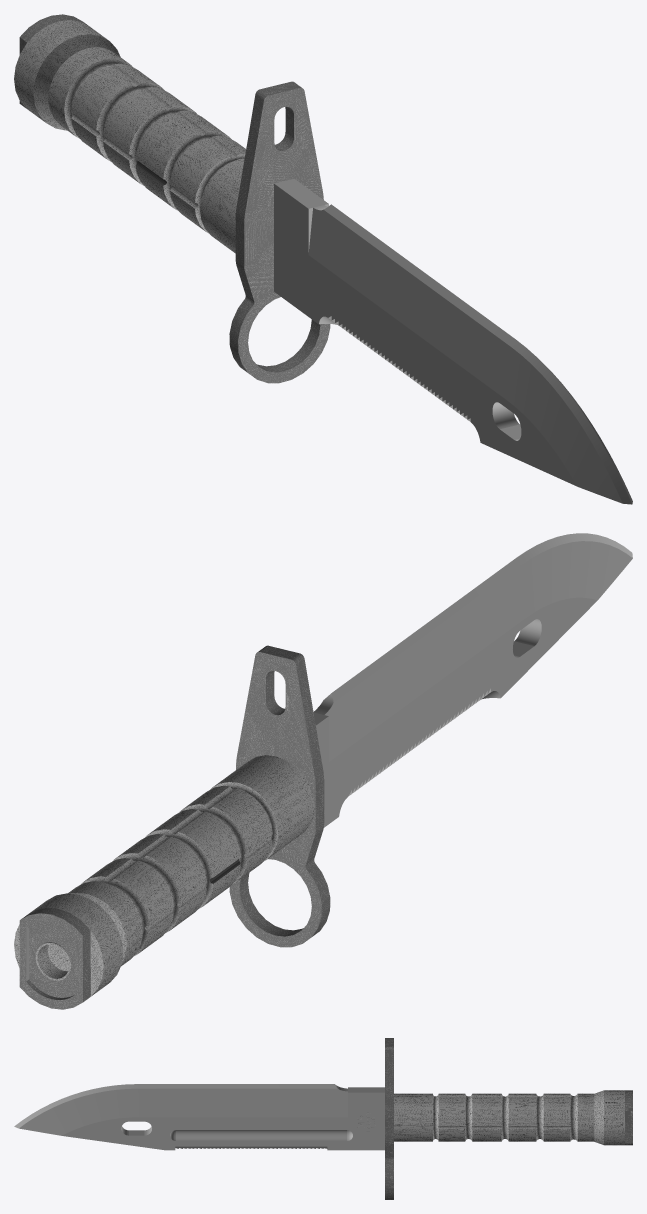
Rendered from model_scale.obj.
3 renders of one model, top to bottom at view 1: azimuth 30°, elevation 25°; view 2: azimuth 150°, elevation 25°; view 3: azimuth 270°, elevation 25°, orthographic. The views are drawn at different scales.
Parts seen in each view (by area): view 1: mesh1_mesh1-geometry, mesh2_mesh2-geometry; view 2: mesh1_mesh1-geometry, mesh2_mesh2-geometry; view 3: mesh2_mesh2-geometry, mesh1_mesh1-geometry.
Boxes of the visible parts, x1,y1,x2,y2 form: mesh1_mesh1-geometry: [14, 14, 330, 383]; mesh2_mesh2-geometry: [274, 178, 632, 504]; mesh1_mesh1-geometry: [14, 645, 330, 1009]; mesh2_mesh2-geometry: [313, 533, 632, 827]; mesh2_mesh2-geometry: [14, 1084, 384, 1150]; mesh1_mesh1-geometry: [385, 1038, 632, 1199].
Size of the model in its own units: 0.0179 by 0.0536 by 0.1946.
4 materials, 1 textured.
